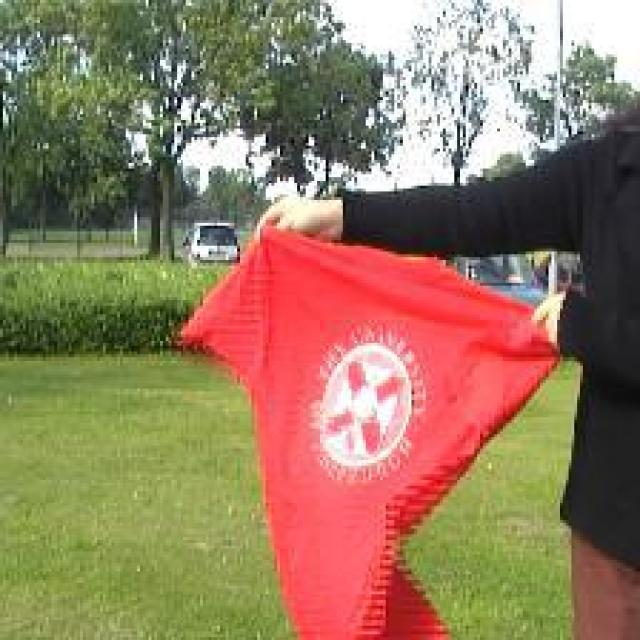other: (168, 210, 570, 630)
